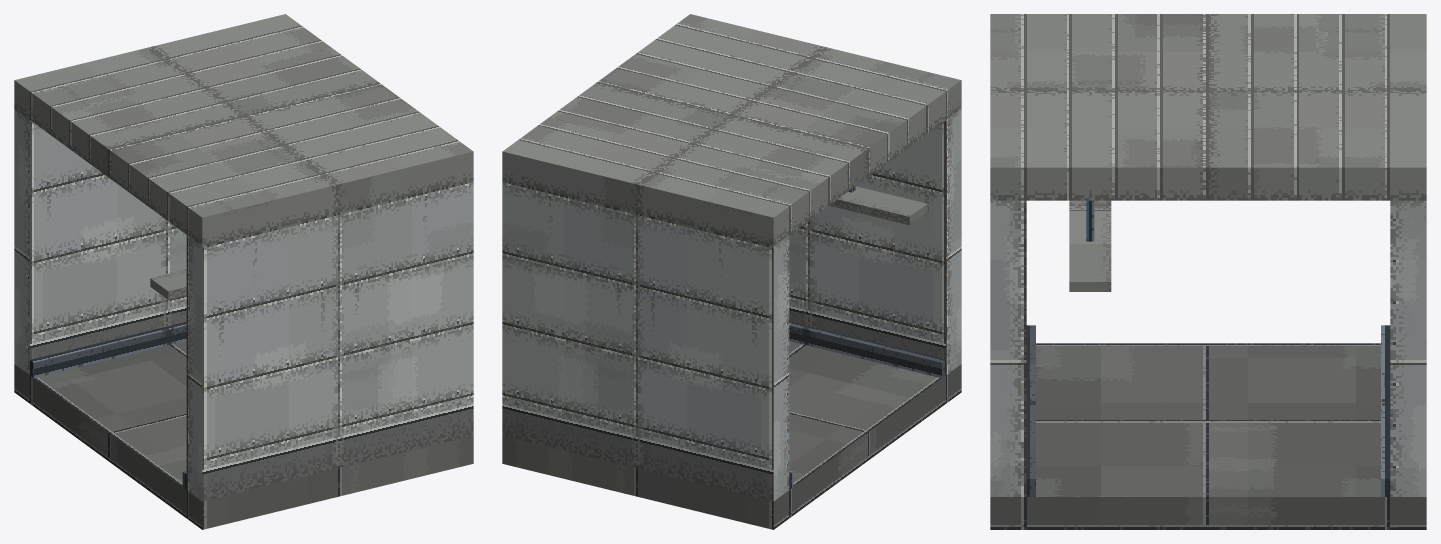
The model's file is arch_connector_straight.glb.
3 renders of one model, left to right at view 1: azimuth 30°, elevation 25°; view 2: azimuth 150°, elevation 25°; view 3: azimuth 270°, elevation 25°, orthographic. The views are drawn at different scales.
Visible parts, largest first — view 1: arch_connector_straight; view 2: arch_connector_straight; view 3: arch_connector_straight.
Part boxes in pixels (left/top/right/bottom): arch_connector_straight: left=14, top=14, right=473, bottom=529; arch_connector_straight: left=502, top=14, right=961, bottom=529; arch_connector_straight: left=990, top=14, right=1426, bottom=529.
Bounding box in the file's own units: 4 × 4.4 × 4.8.
9 materials, 9 textured.
